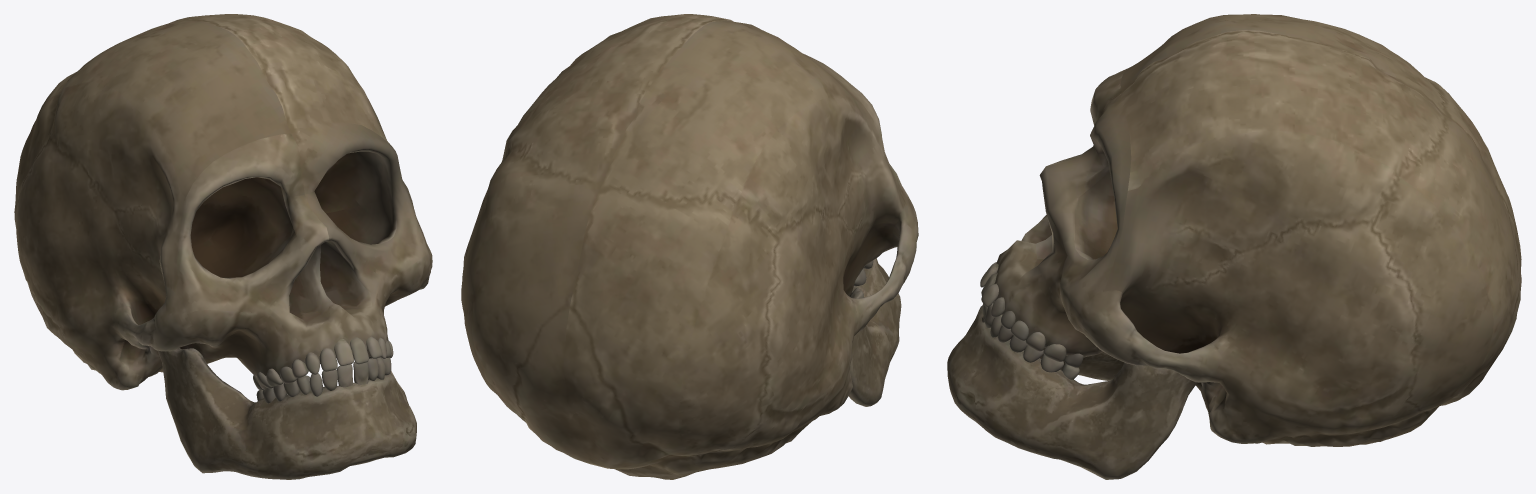
File: sketchfab-human-skull-danieledefilippis.glb
3 renders of one model, left to right at view 1: azimuth 30°, elevation 25°; view 2: azimuth 150°, elevation 25°; view 3: azimuth 270°, elevation 25°, orthographic. The views are drawn at different scales.
Parts seen in each view (by area): view 1: Object_3, Object_2; view 2: Object_3, Object_2; view 3: Object_3, Object_2.
Part boxes in pixels (x1,y1,x2,y2): Object_3: [14, 14, 432, 390]; Object_2: [158, 311, 416, 479]; Object_3: [461, 14, 918, 479]; Object_2: [848, 258, 901, 406]; Object_3: [980, 14, 1521, 446]; Object_2: [947, 272, 1198, 479].
Bounding box in the file's own units: 0.1695 × 0.1981 × 0.2583.
1 material, 1 textured.
